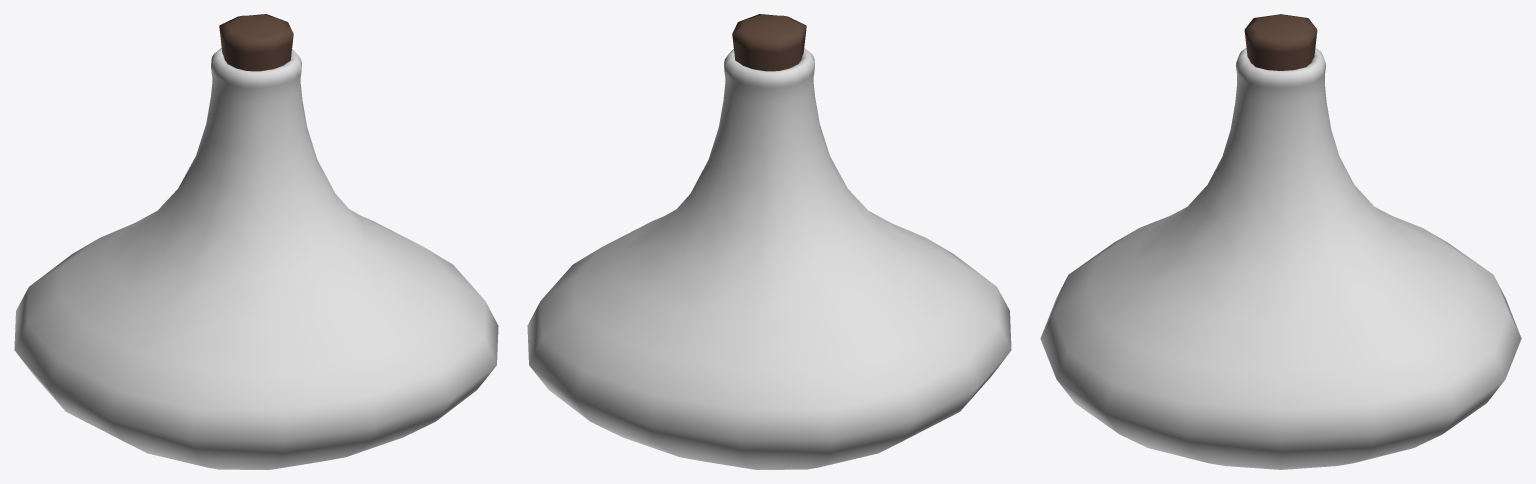
File: potion8_empty.glb
The picture shows the model from 3 angles, left to right: view 1: azimuth 30°, elevation 25°; view 2: azimuth 150°, elevation 25°; view 3: azimuth 270°, elevation 25°; orthographic projection.
Visible parts, largest first — view 1: Potion8_Empty; view 2: Potion8_Empty; view 3: Potion8_Empty.
Boxes of the visible parts, left/top/right/bottom form: Potion8_Empty: left=14, top=14, right=498, bottom=469; Potion8_Empty: left=527, top=14, right=1011, bottom=469; Potion8_Empty: left=1040, top=14, right=1521, bottom=469.
Bounding box in the file's own units: 0.7035 × 0.6821 × 0.7035.
